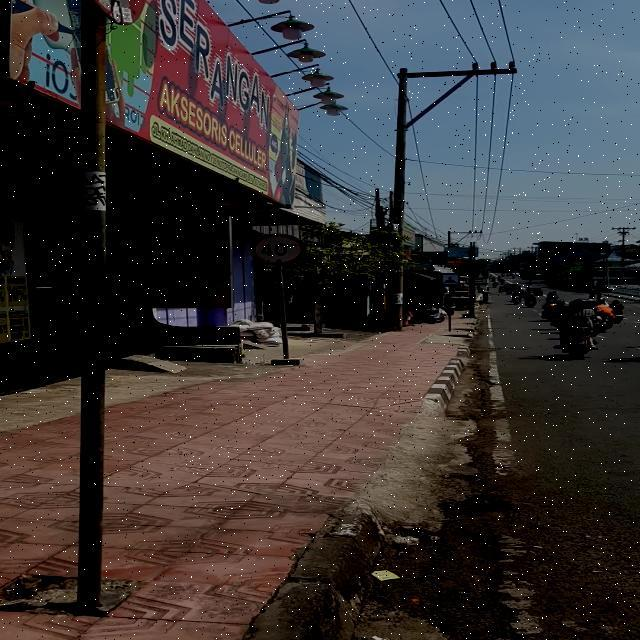Kecepatan Maks. 40 km: (250, 233, 306, 266)
